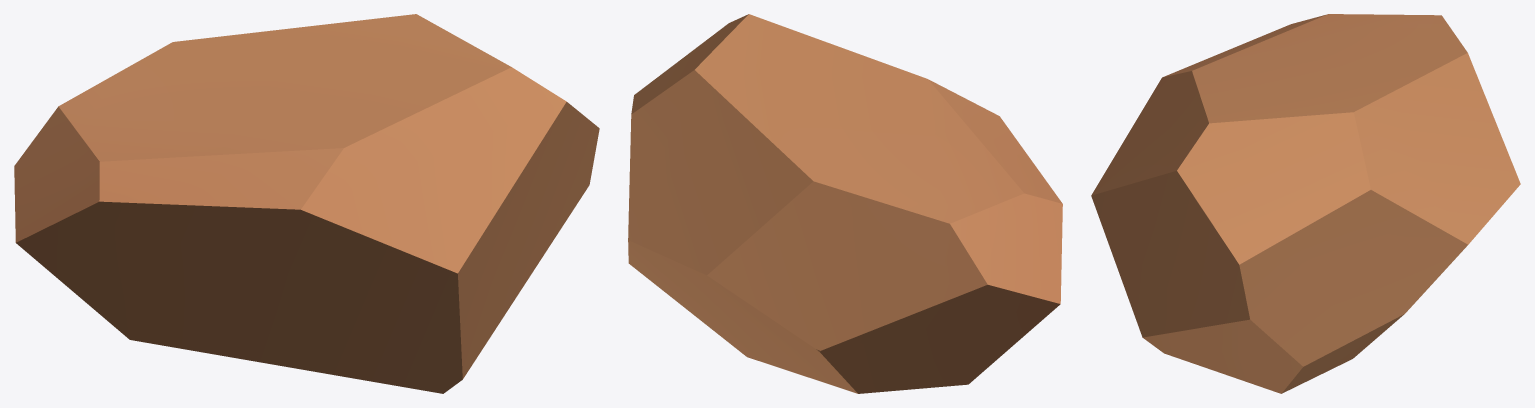
File: rocks2.fbx
The picture shows the model from 3 angles, left to right: view 1: azimuth 30°, elevation 25°; view 2: azimuth 150°, elevation 25°; view 3: azimuth 270°, elevation 25°; orthographic projection. The views are drawn at different scales.
Visible parts, largest first — view 1: stone-diamond; view 2: stone-diamond; view 3: stone-diamond.
Boxes of the visible parts, x1,y1,x2,y2 form: stone-diamond: (14, 14, 599, 393); stone-diamond: (628, 14, 1062, 393); stone-diamond: (1091, 14, 1520, 393).
Bounding box in the file's own units: 181 × 100 × 138.
Materials: 1 (1 with a texture image).
